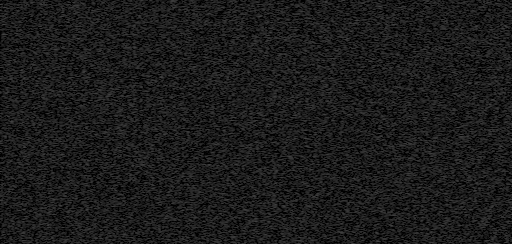wv_am: (377, 0, 385, 244)
wv_cw: (215, 0, 251, 244), (457, 0, 481, 244)
wv_usb: (273, 2, 278, 240), (274, 241, 278, 244)
wv_wbfm: (111, 0, 144, 244)
